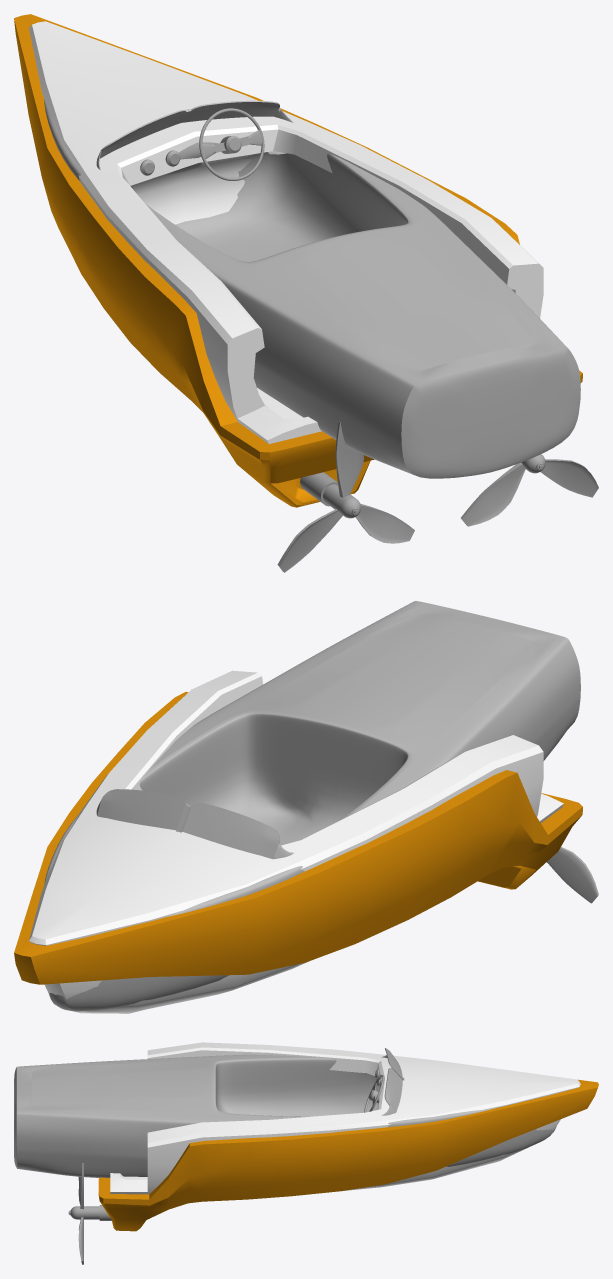
File: boat.fbx
The picture shows the model from 3 angles, top to bottom: view 1: azimuth 30°, elevation 25°; view 2: azimuth 150°, elevation 25°; view 3: azimuth 270°, elevation 25°; orthographic projection. The views are drawn at different scales.
Visible parts, largest first — view 1: polySurface5, boat_body, boat_parts, propeller, handle; view 2: polySurface5, boat_parts, boat_body, propeller; view 3: polySurface5, boat_parts, boat_body, propeller, handle.
Part boxes in pixels (x1,y1,x2,y2): polySurface5: (44, 99, 580, 478); boat_body: (29, 21, 543, 443); boat_parts: (14, 14, 582, 507); propeller: (277, 422, 598, 572); handle: (140, 108, 264, 180); polySurface5: (44, 601, 580, 1011); boat_parts: (14, 692, 582, 984); boat_body: (29, 670, 563, 1013); propeller: (547, 847, 598, 903); polySurface5: (14, 1048, 556, 1177); boat_parts: (98, 1079, 598, 1231); boat_body: (110, 1042, 580, 1194); propeller: (68, 1163, 111, 1264); handle: (364, 1069, 384, 1112).
Bounding box in the file's own units: 20.48 × 14.33 × 49.72.
